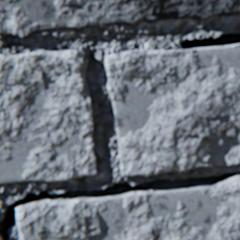brick: (106, 44, 239, 176), (17, 174, 239, 239), (0, 50, 98, 183), (0, 0, 239, 36), (0, 221, 6, 239)
crack: (2, 172, 239, 239), (182, 33, 239, 48)
